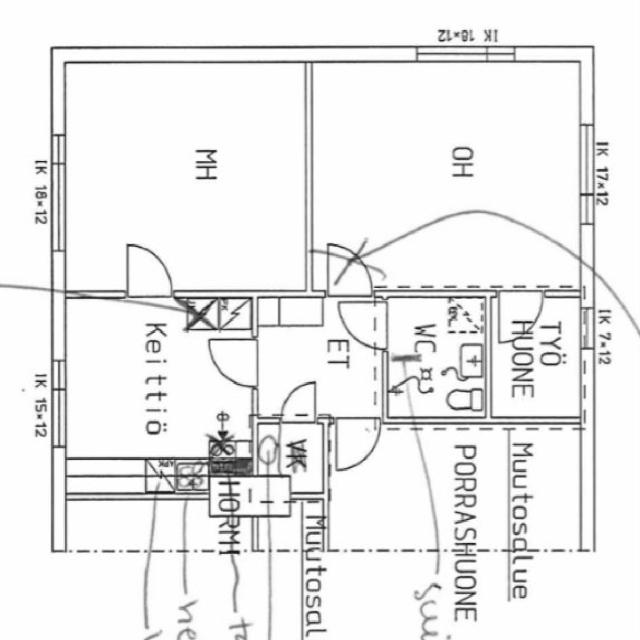door: (117, 238, 181, 305), (310, 238, 374, 296), (205, 331, 261, 390), (329, 414, 382, 473), (333, 294, 385, 350), (274, 375, 323, 423)
window: (42, 124, 74, 273), (408, 38, 520, 68), (46, 350, 72, 457), (572, 121, 599, 200), (574, 191, 602, 245), (576, 221, 596, 291), (576, 297, 600, 354)
zone: (62, 62, 309, 297), (308, 54, 583, 252), (57, 294, 260, 476), (255, 296, 384, 420), (382, 292, 488, 424), (496, 288, 586, 418), (253, 419, 331, 500)
